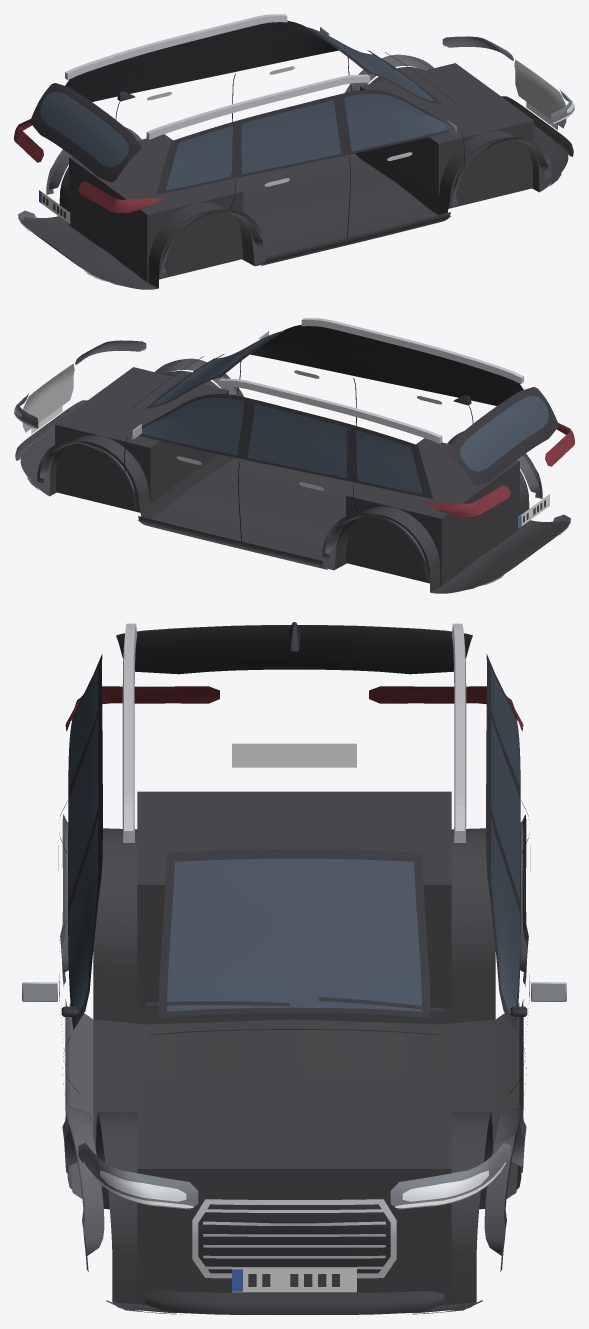
File: car_suv_detail.glb
3 views of the same model, one above another, from view 1: azimuth 30°, elevation 25°; view 2: azimuth 150°, elevation 25°; view 3: azimuth 270°, elevation 25° (orthographic). The views are drawn at different scales.
Parts seen in each view (by area): view 1: suv_detail_Under, suv_detail_CarGlass, suv_detail_Frit, suv_detail_Silver, suv_detail_Plastic, suv_detail_TailDark, suv_detail_LampHousing, suv_detail_Plate, suv_detail_Seam; view 2: suv_detail_Under, suv_detail_CarGlass, suv_detail_Frit, suv_detail_Silver, suv_detail_Plastic, suv_detail_TailDark, suv_detail_LampHousing, suv_detail_Plate, suv_detail_Seam; view 3: suv_detail_Under, suv_detail_CarGlass, suv_detail_Frit, suv_detail_Plastic, suv_detail_Silver, suv_detail_Plate, suv_detail_TailDark, suv_detail_LampHousing, suv_detail_Lens, suv_detail_MirrorGlass, suv_detail_Drl.
Boxes of the visible parts, x1=… form: suv_detail_Under: x1=20, y1=63, x2=568, y2=289; suv_detail_CarGlass: x1=40, y1=29, x2=446, y2=190; suv_detail_Frit: x1=31, y1=21, x2=458, y2=194; suv_detail_Silver: x1=20, y1=14, x2=566, y2=281; suv_detail_Plastic: x1=18, y1=54, x2=573, y2=287; suv_detail_TailDark: x1=14, y1=119, x2=163, y2=212; suv_detail_LampHousing: x1=442, y1=36, x2=574, y2=124; suv_detail_Plate: x1=39, y1=102, x2=557, y2=224; suv_detail_Seam: x1=115, y1=52, x2=464, y2=237; suv_detail_Under: x1=20, y1=367, x2=568, y2=593; suv_detail_CarGlass: x1=142, y1=333, x2=548, y2=494; suv_detail_Frit: x1=130, y1=325, x2=557, y2=498; suv_detail_Silver: x1=22, y1=318, x2=568, y2=585; suv_detail_Plastic: x1=15, y1=358, x2=570, y2=591; suv_detail_TailDark: x1=425, y1=423, x2=574, y2=516; suv_detail_LampHousing: x1=14, y1=340, x2=146, y2=428; suv_detail_Plate: x1=31, y1=406, x2=549, y2=528; suv_detail_Seam: x1=124, y1=356, x2=473, y2=541; suv_detail_Under: x1=93, y1=791, x2=495, y2=1313; suv_detail_CarGlass: x1=68, y1=666, x2=520, y2=1017; suv_detail_Frit: x1=61, y1=622, x2=527, y2=1273; suv_detail_Plastic: x1=60, y1=814, x2=528, y2=1314; suv_detail_Silver: x1=58, y1=623, x2=530, y2=1278; suv_detail_Plate: x1=232, y1=743, x2=356, y2=1292; suv_detail_TailDark: x1=65, y1=686, x2=523, y2=731; suv_detail_LampHousing: x1=78, y1=1143, x2=510, y2=1209; suv_detail_Lens: x1=100, y1=1170, x2=488, y2=1201; suv_detail_MirrorGlass: x1=22, y1=982, x2=566, y2=1001; suv_detail_Drl: x1=83, y1=1162, x2=505, y2=1208.
Size of the model in its own units: 4.69 by 1.49 by 2.27.
